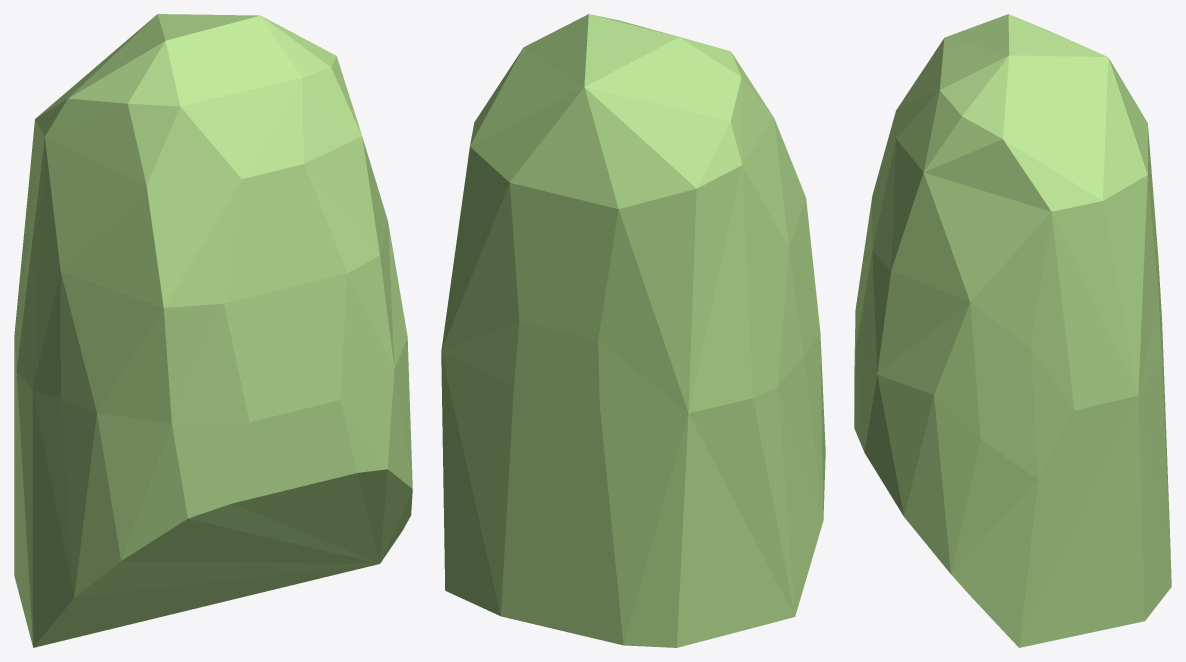
The picture shows the model from 3 angles, left to right: view 1: azimuth 30°, elevation 25°; view 2: azimuth 150°, elevation 25°; view 3: azimuth 270°, elevation 25°; orthographic projection. The views are drawn at different scales.
Parts seen in each view (by area): view 1: th_distal; view 2: th_distal; view 3: th_distal.
Boxes of the visible parts, left/top/right/bottom form: th_distal: left=14, top=14, right=412, bottom=647; th_distal: left=441, top=14, right=825, bottom=647; th_distal: left=854, top=14, right=1171, bottom=647.
Bounding box in the file's own units: 21.77 × 18.7 × 34.85.
